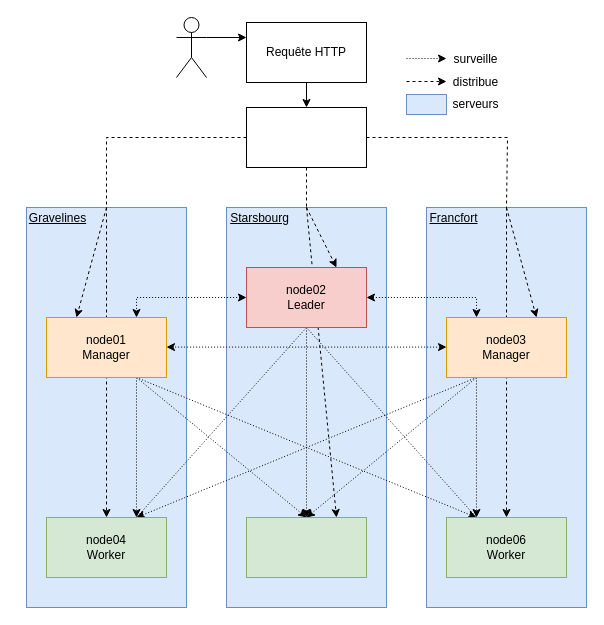
Some shapes in this 604 by 625 pixel diagram are drawn without their labels. The centre of each missing label's shape, as x and y in pixels:
"main01 LoadBalancer" belongs at pixel 306 137.
"node05 Worker" belongs at pixel 306 547.
"User" belongs at pixel 191 47.
